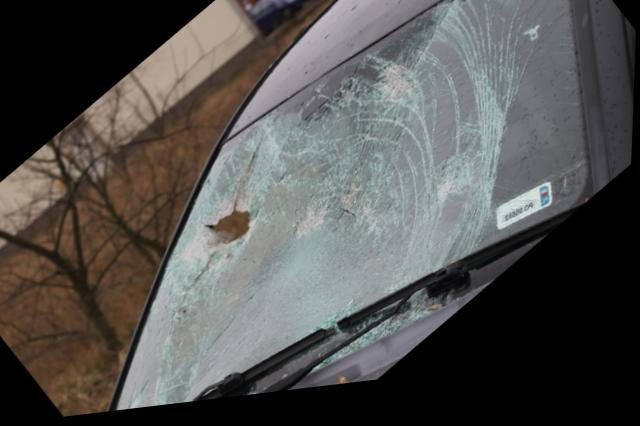glass shatter: (117, 0, 597, 414)
